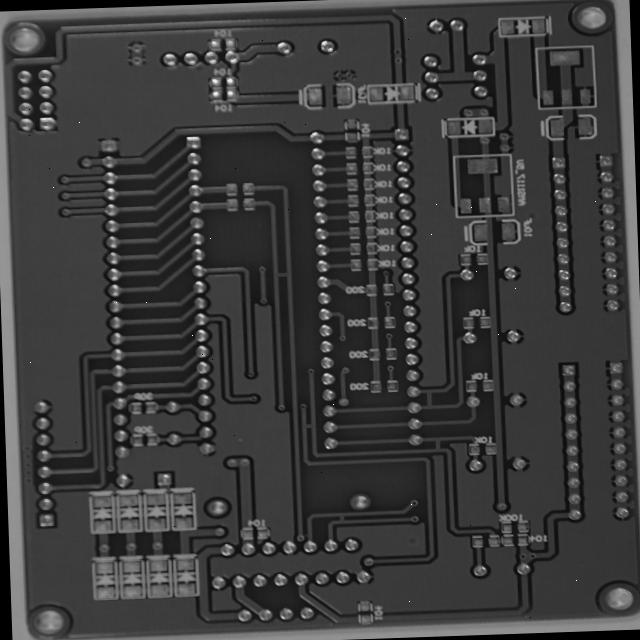short: (505, 428, 529, 460), (322, 296, 357, 314), (518, 483, 541, 506), (360, 466, 385, 484), (402, 567, 423, 588)
